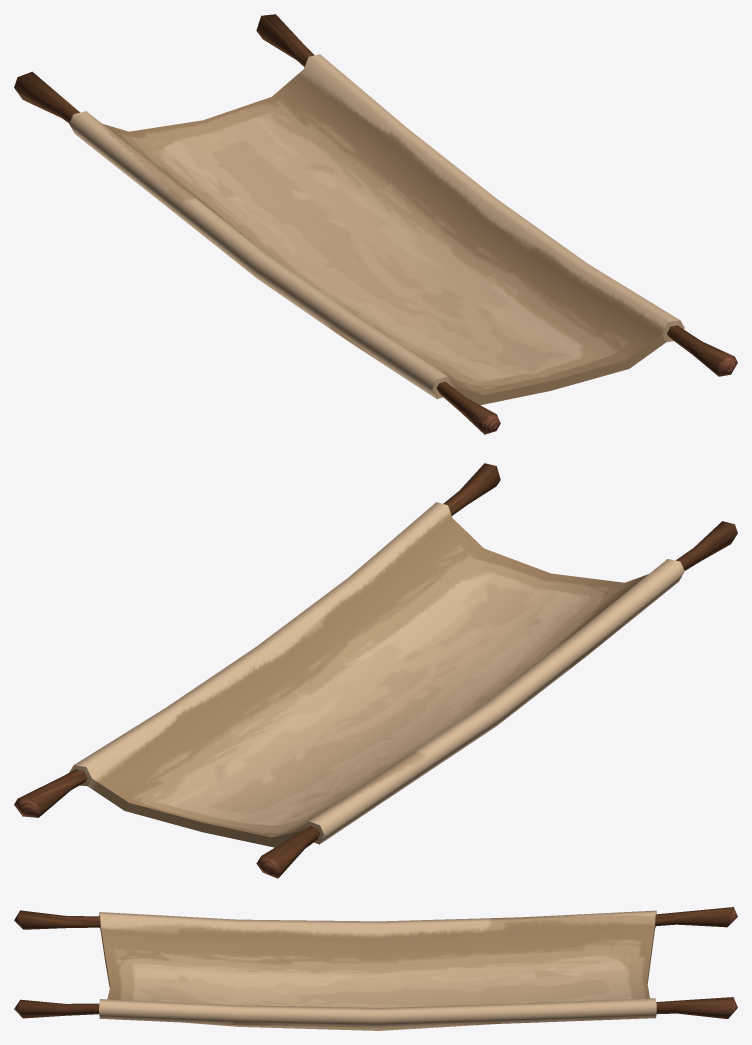
Rendered from SM_PROP_stretcher_battle.fbx.
3 renders of one model, top to bottom at view 1: azimuth 30°, elevation 25°; view 2: azimuth 150°, elevation 25°; view 3: azimuth 270°, elevation 25°, orthographic. The views are drawn at different scales.
Parts seen in each view (by area): view 1: SM_PROP_stretcher_battle; view 2: SM_PROP_stretcher_battle; view 3: SM_PROP_stretcher_battle.
Boxes of the visible parts, <box> form: SM_PROP_stretcher_battle: <box>14,14,737,434</box>; SM_PROP_stretcher_battle: <box>14,463,737,878</box>; SM_PROP_stretcher_battle: <box>14,907,737,1030</box>.
Bounding box in the file's own units: 84.91 × 22.77 × 258.
